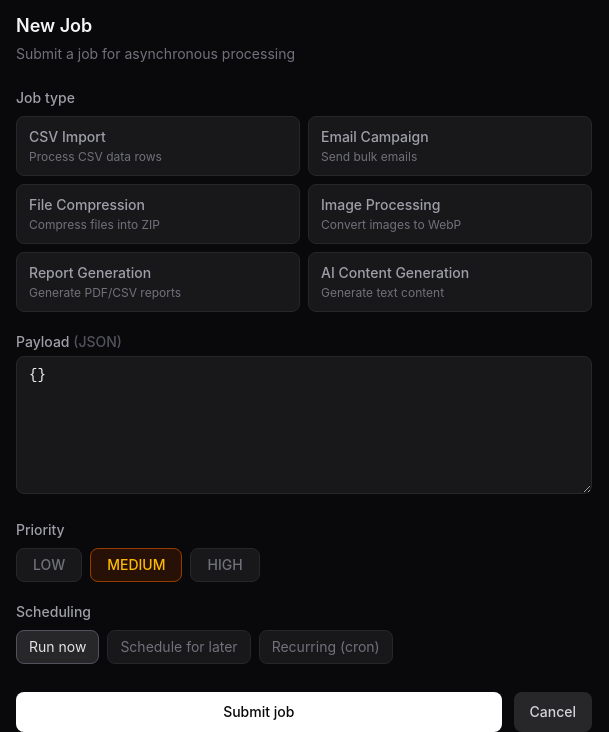
Test: CreateJob form validation › shows error when no job type selected
Click the button "Submit job" at point(259, 712), box [16,692,502,731]
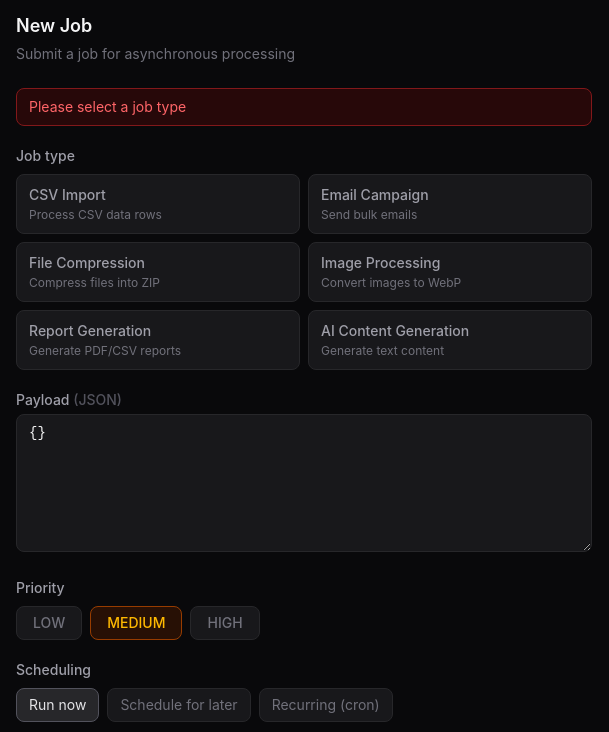
Result: the text "Please select a job type" is shown at [16,88,592,126]
